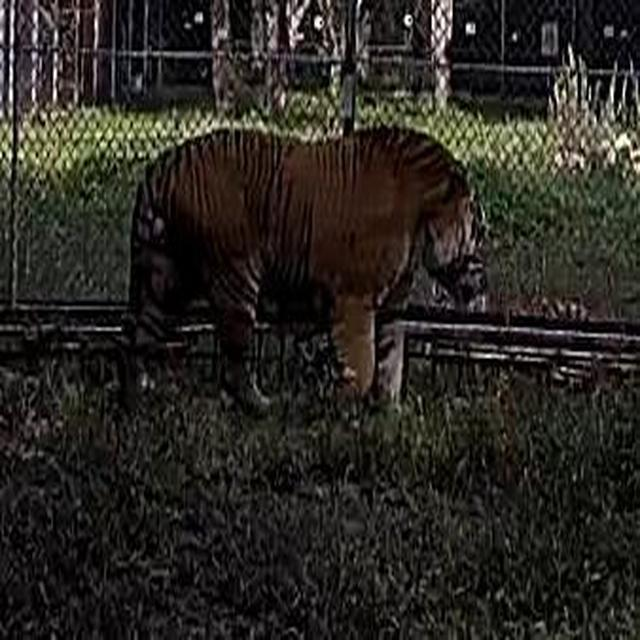tiger: (89, 113, 517, 445)
